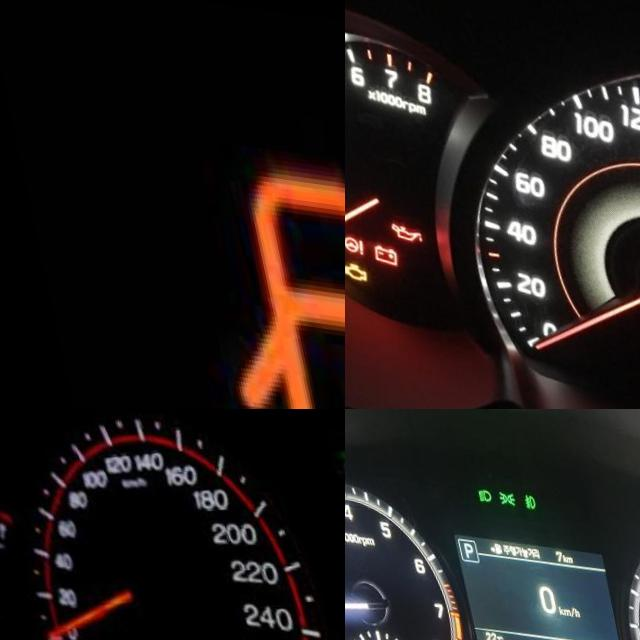FrontFogLight: (512, 481, 526, 498)
Low beam: (466, 477, 482, 493)
SideLamp: (486, 479, 506, 496)
